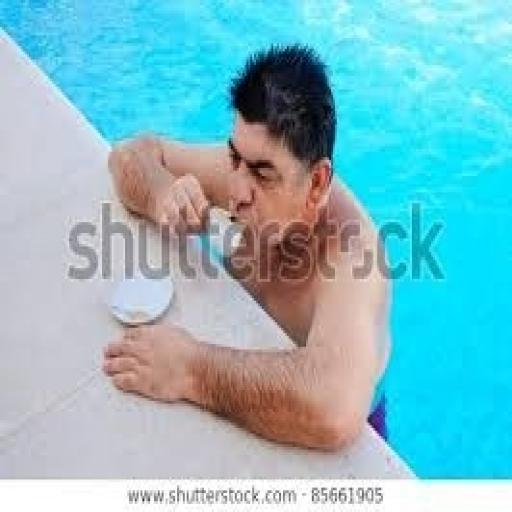drinking: (98, 40, 395, 452)
